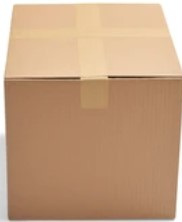stock: (7, 4, 182, 220)
